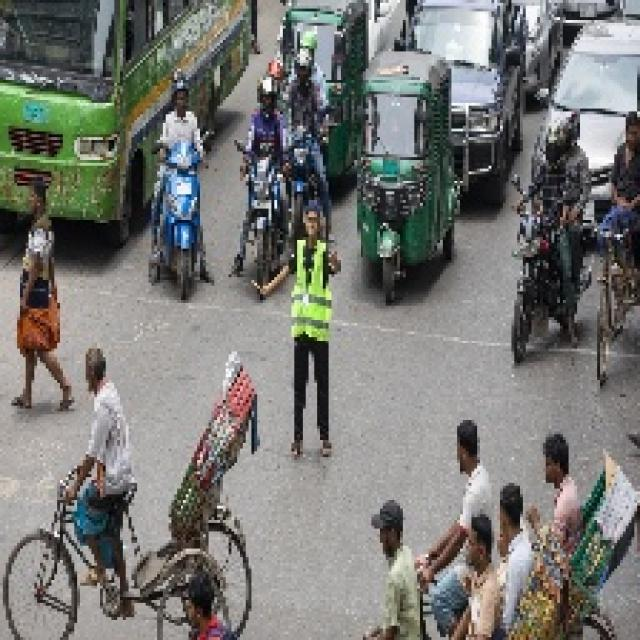bike: (500, 210, 586, 362), (157, 134, 207, 295), (241, 140, 294, 291), (283, 98, 326, 243)
car: (403, 1, 515, 198), (520, 14, 638, 193)
rickshaw: (1, 357, 260, 629), (407, 431, 633, 611)
